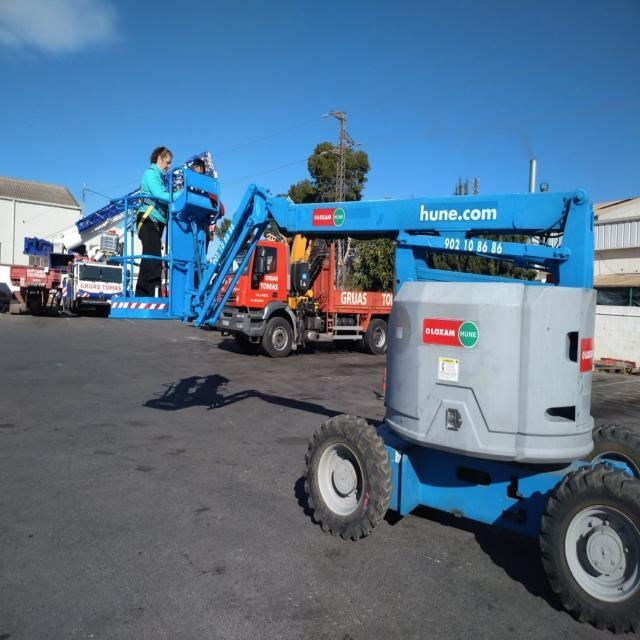Arnes_seguridad: (137, 198, 168, 240)
